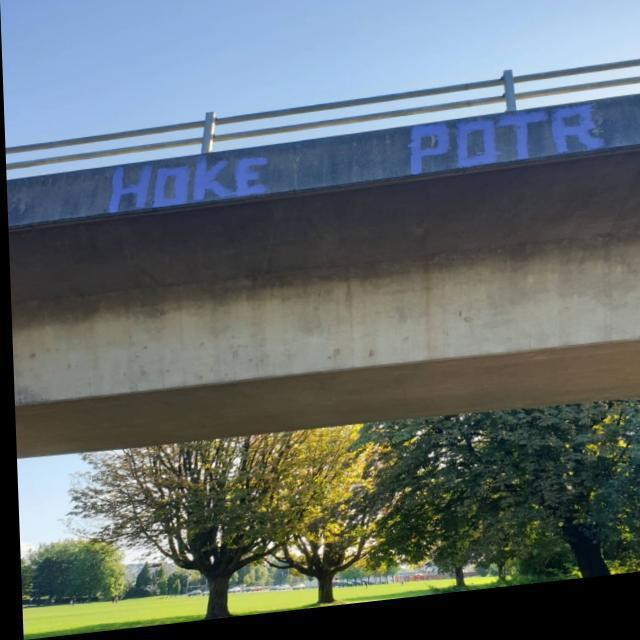nonspitting: (407, 110, 604, 176), (102, 152, 270, 212)
